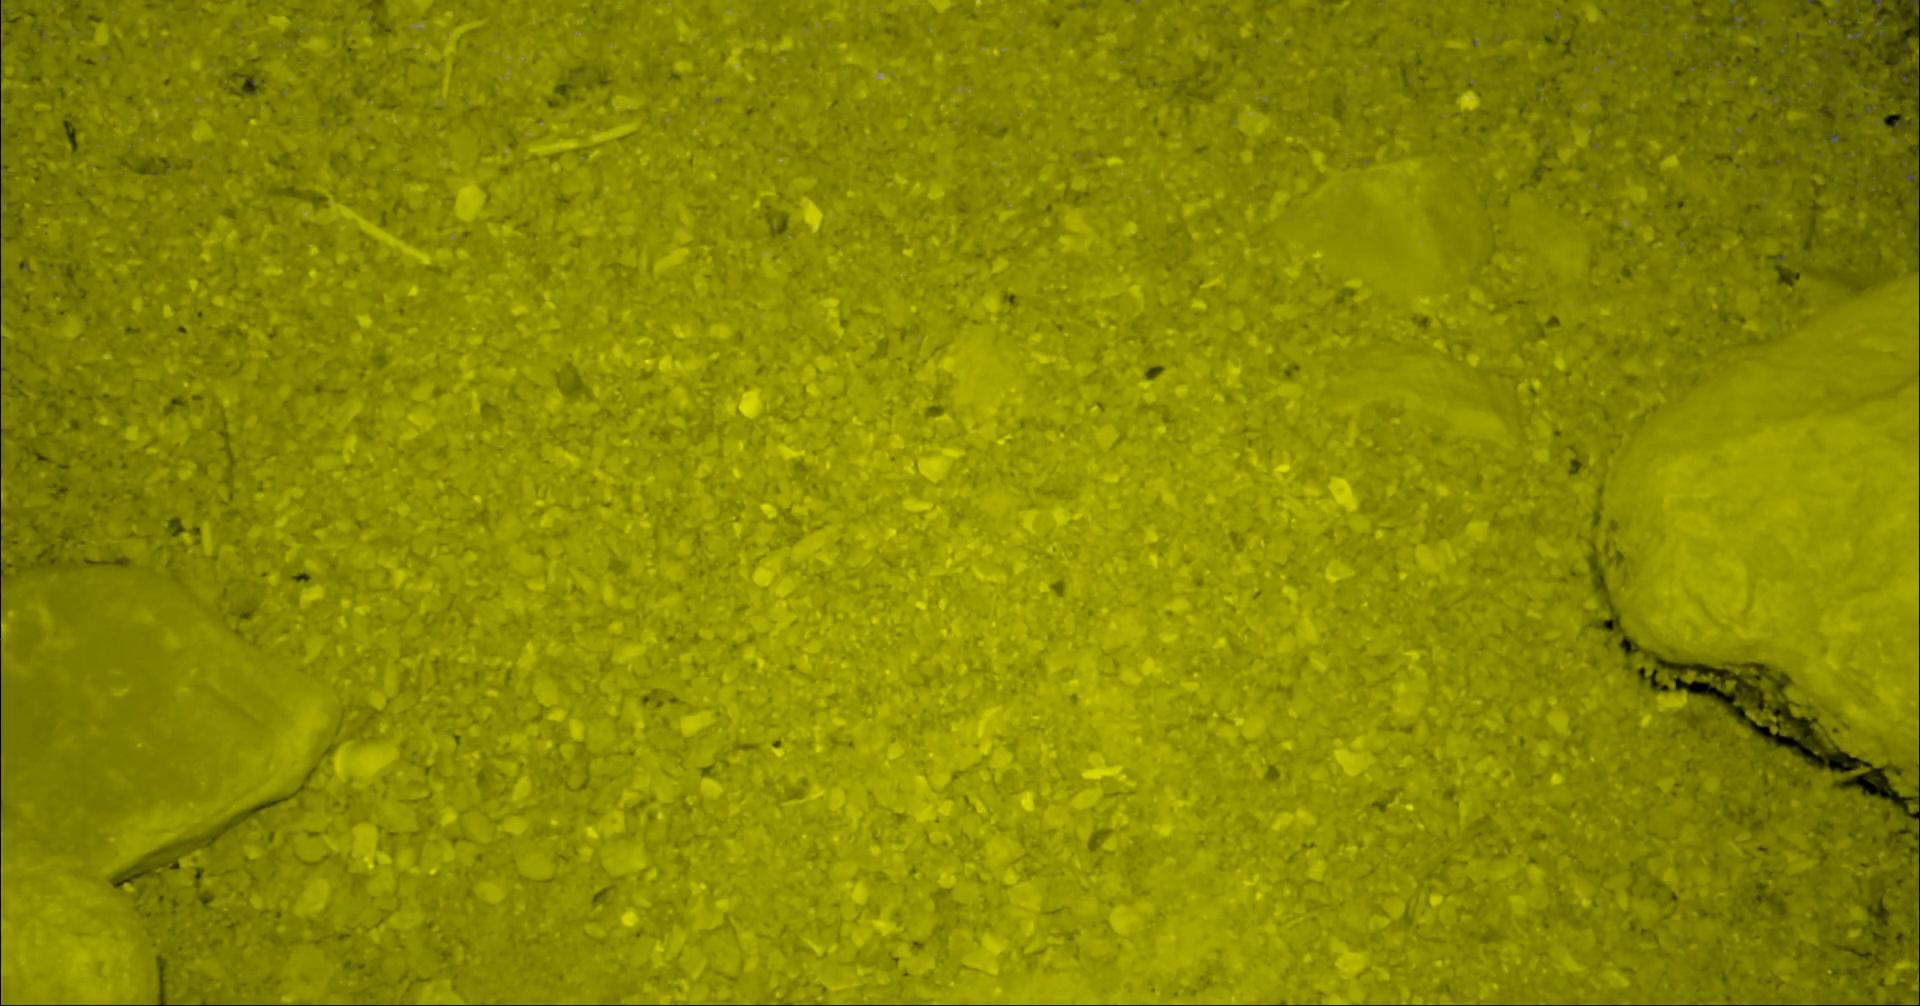ant: (1915, 192, 1919, 271)
